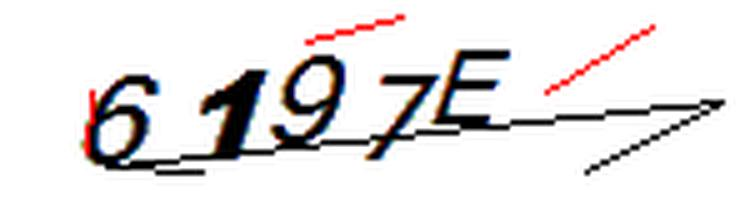1: (190, 64, 271, 172)
6: (77, 69, 167, 173)
7: (359, 64, 446, 169)
9: (266, 51, 353, 154)
E: (429, 38, 522, 139)
